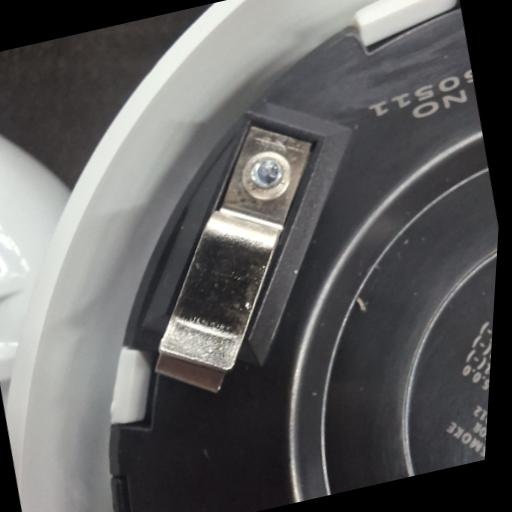yayli: (104, 112, 365, 406)
